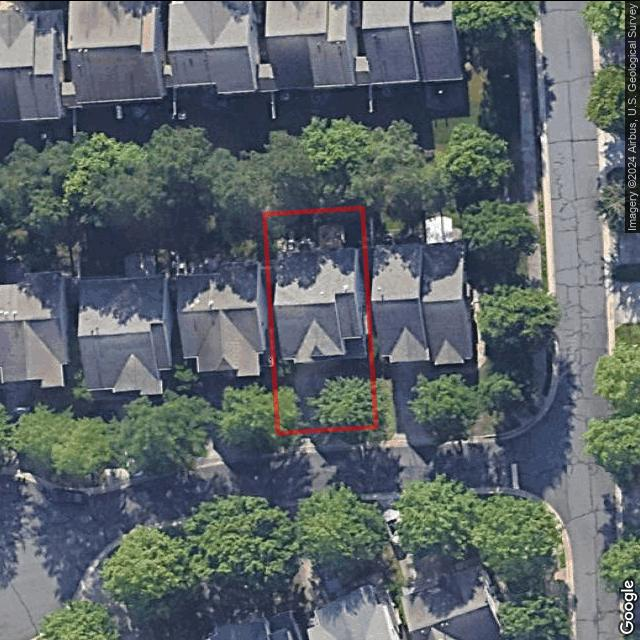Driveway: (293, 361, 327, 430)
Extra-Driveway: (296, 425, 347, 443)
Extra-Lawn: (320, 425, 378, 441), (276, 427, 299, 446)
House: (273, 248, 369, 362)
Lawn: (265, 206, 375, 433)
Sidewalk: (277, 224, 348, 278)
